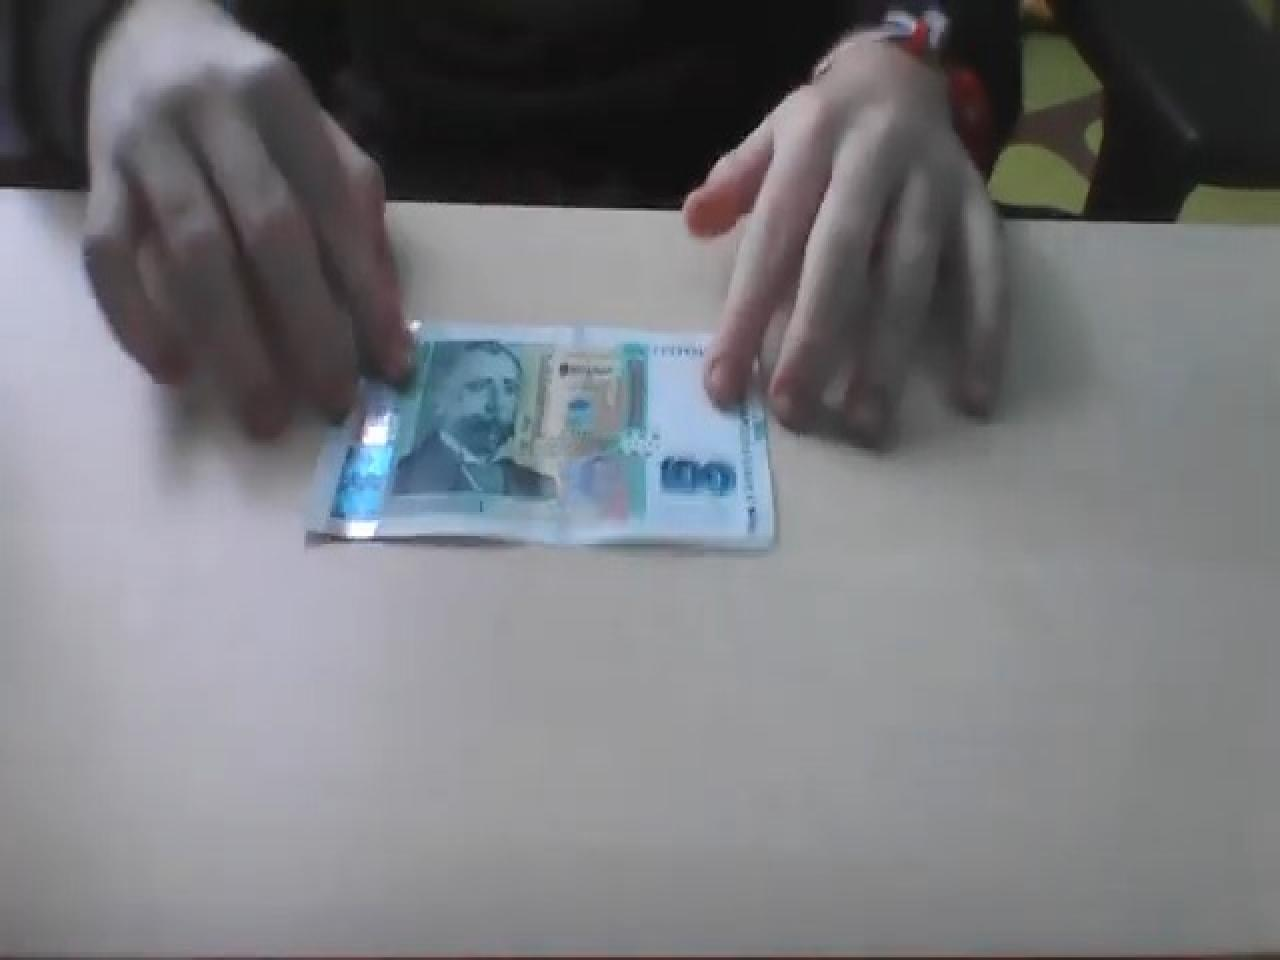100leva: (304, 315, 776, 553), (656, 451, 738, 498)
